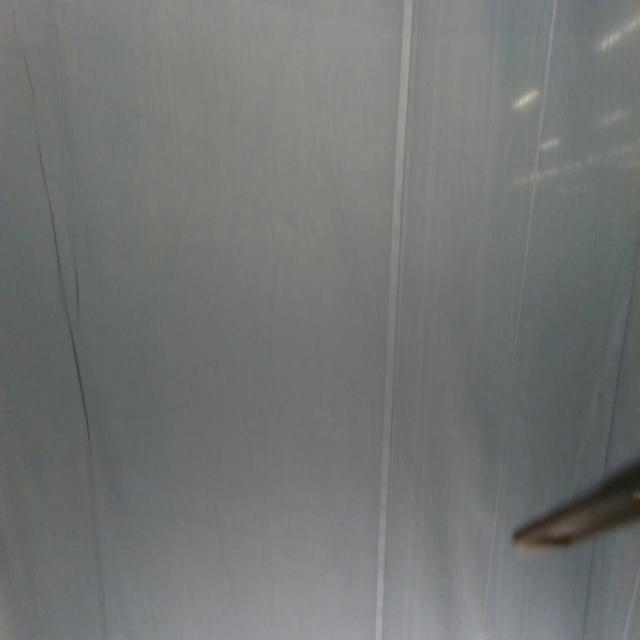crease: (13, 20, 108, 638), (374, 0, 418, 638), (506, 2, 559, 433), (605, 253, 640, 457), (482, 443, 506, 635), (580, 536, 598, 640), (72, 247, 82, 324)
